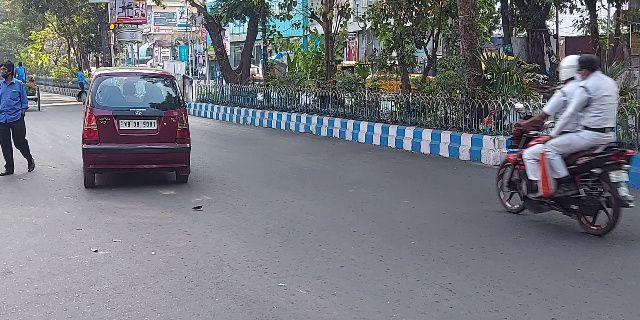Car: (75, 65, 194, 192)
Motorbike: (492, 49, 636, 240)
